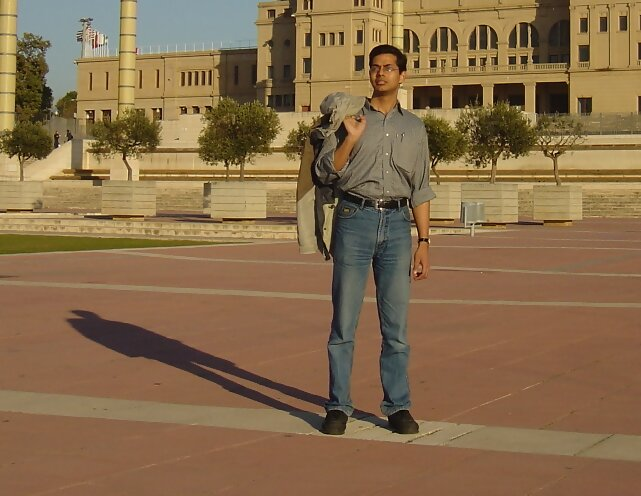person: (295, 39, 447, 444)
